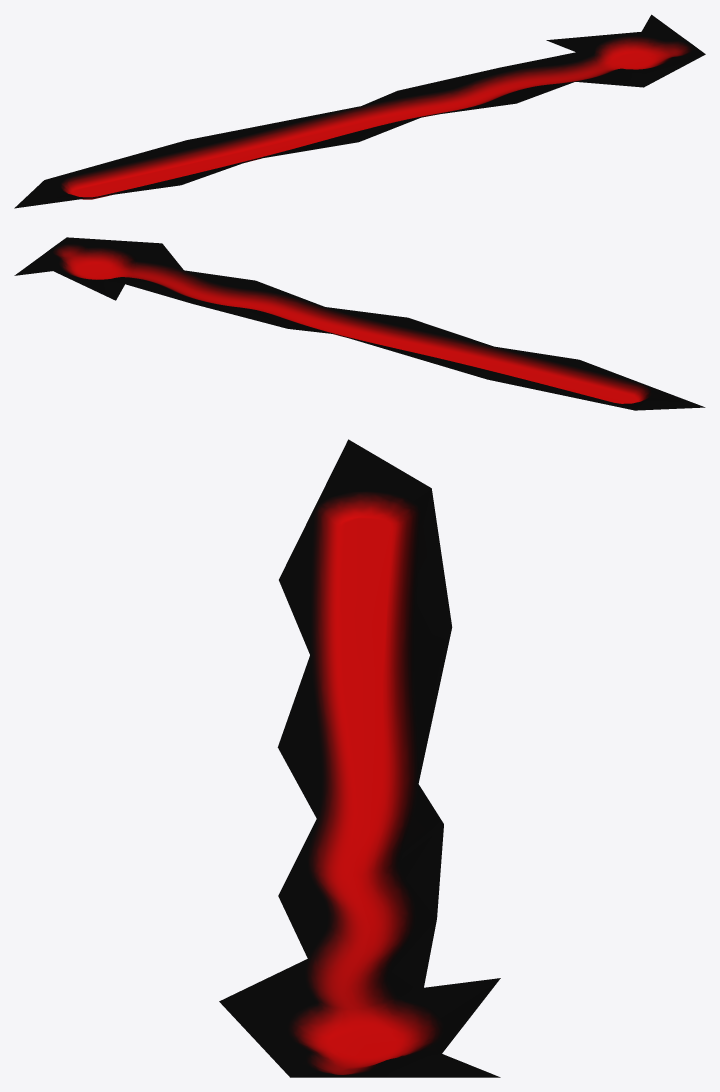
File: Main_ground.fbx
The picture shows the model from 3 angles, top to bottom: view 1: azimuth 30°, elevation 25°; view 2: azimuth 150°, elevation 25°; view 3: azimuth 270°, elevation 25°; orthographic projection. The views are drawn at different scales.
Visible parts, largest first — view 1: transform17; view 2: transform17; view 3: transform17.
Boxes of the visible parts, x1,y1,x2,y2 form: transform17: (14,14,705,208); transform17: (14,237,705,410); transform17: (219,439,500,1077).
Bounding box in the file's own units: 26783 × 301 × 5000.
